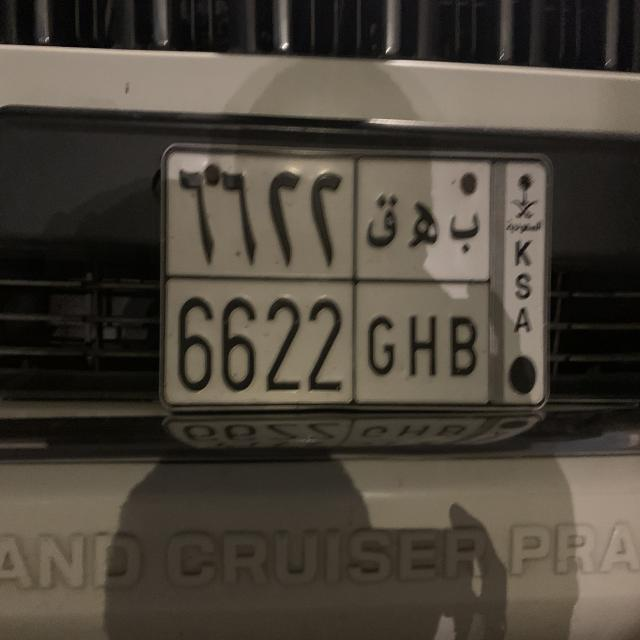license_plate: (156, 141, 552, 415)
